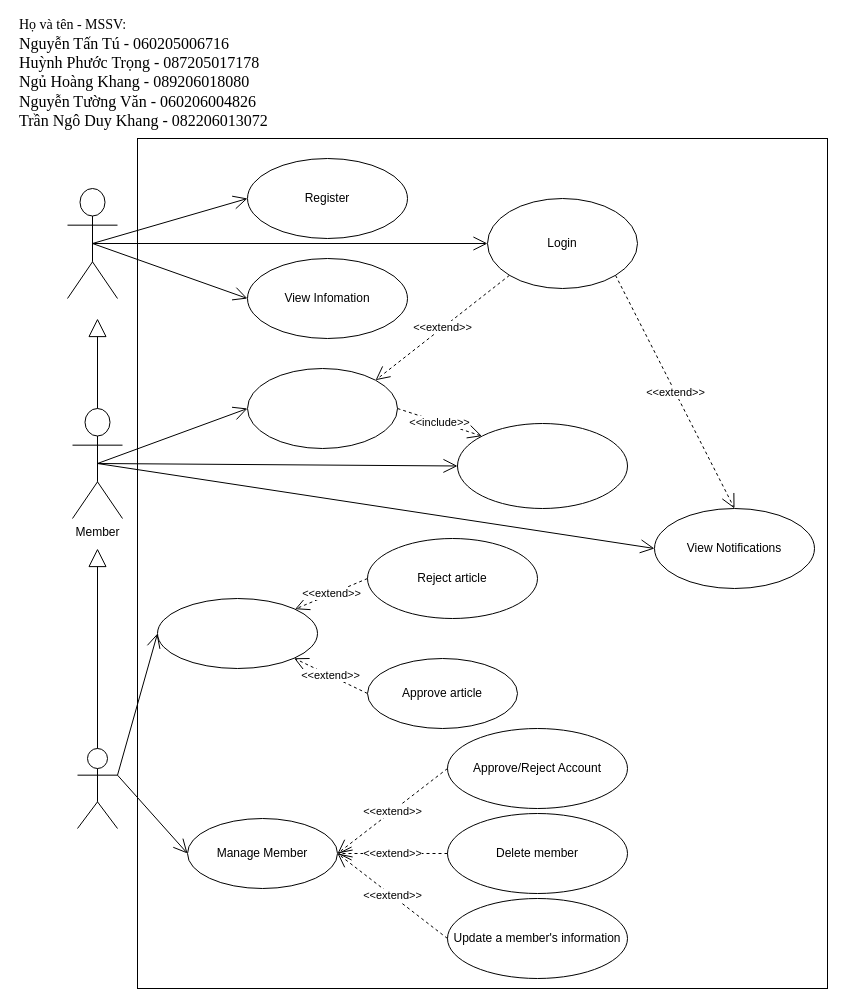
Some shapes in this 845 by 1006 pixel diagram are drawn without their labels. The centre of each missing label's shape, as x and y in pixels:
Administrator: point 97,788
Edit article: point 542,465
Guest: point 92,243
Post Articles: point 322,408
Review articles: point 237,633
